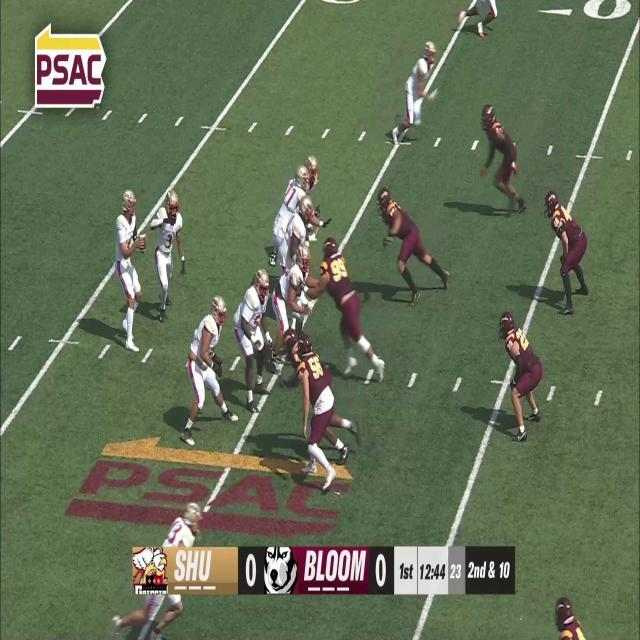football: (136, 232, 147, 254)
